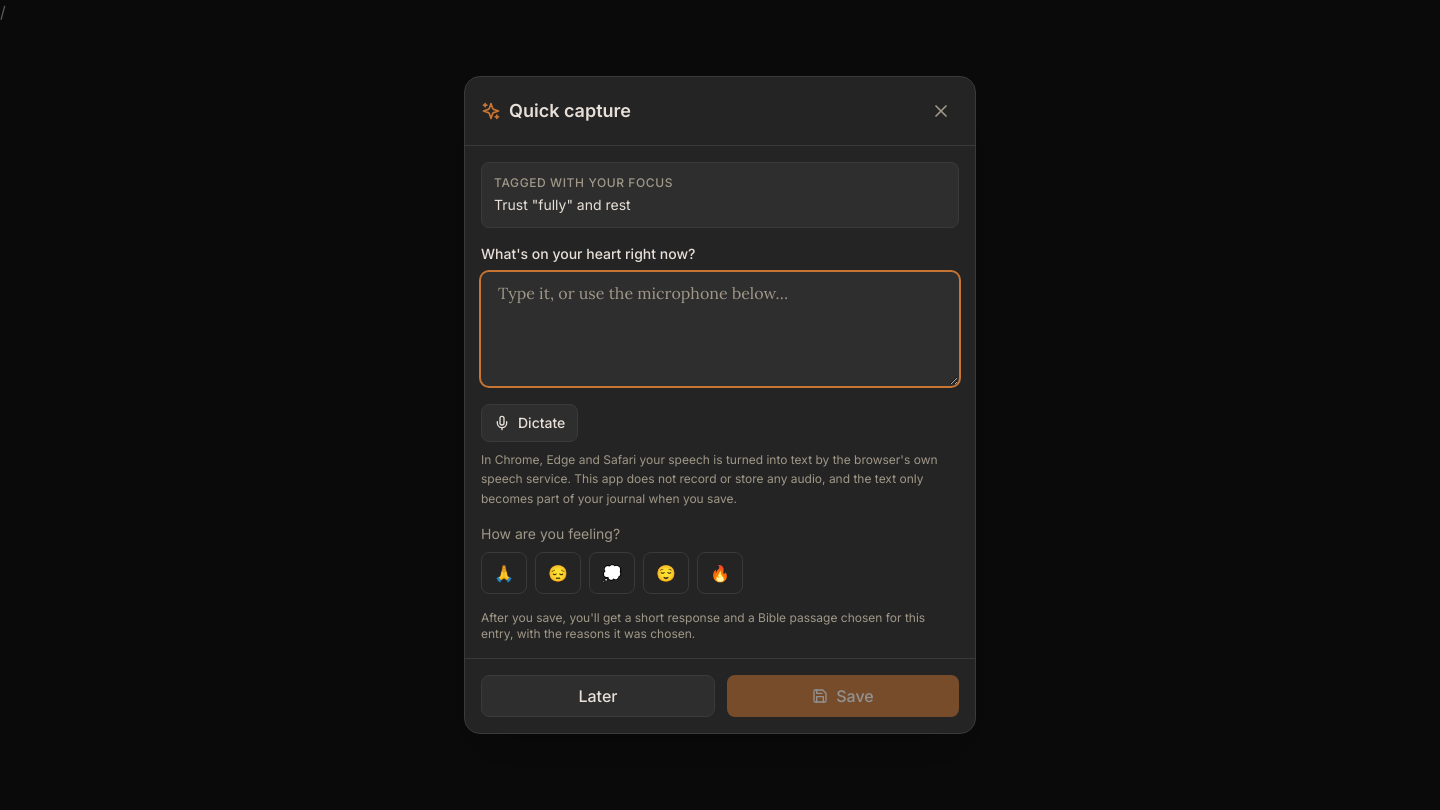
Scenario: QuickCaptureModal › stores metadata as valid JSON and opens the entry for feedback on success
Type "Grateful today" into the text box labelled "What's on your heart right now?" at x=720, y=329, box x1=481 y1=272 x2=959 y2=386
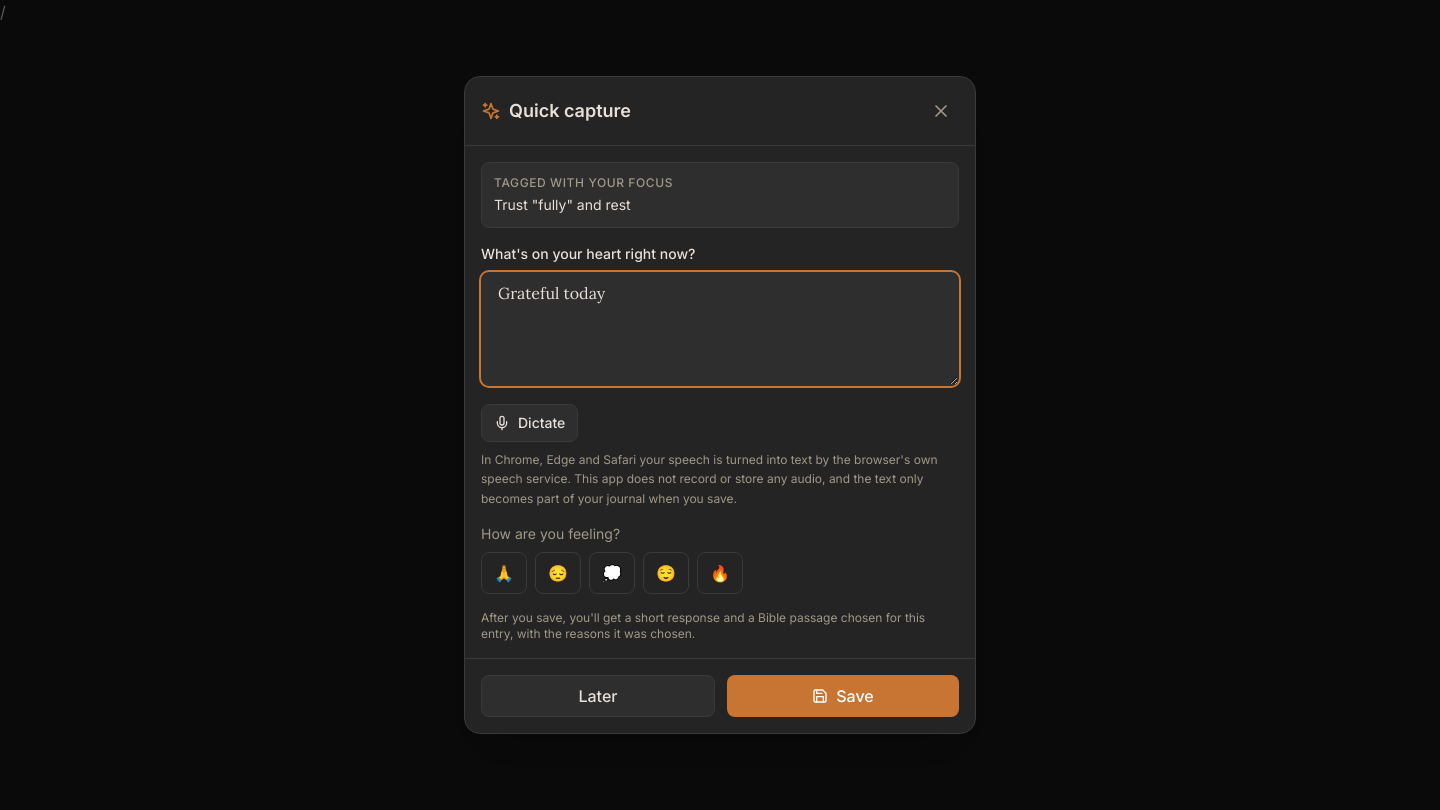
Click the button named "Peaceful" at x=666, y=573, box x1=643 y1=552 x2=689 y2=594
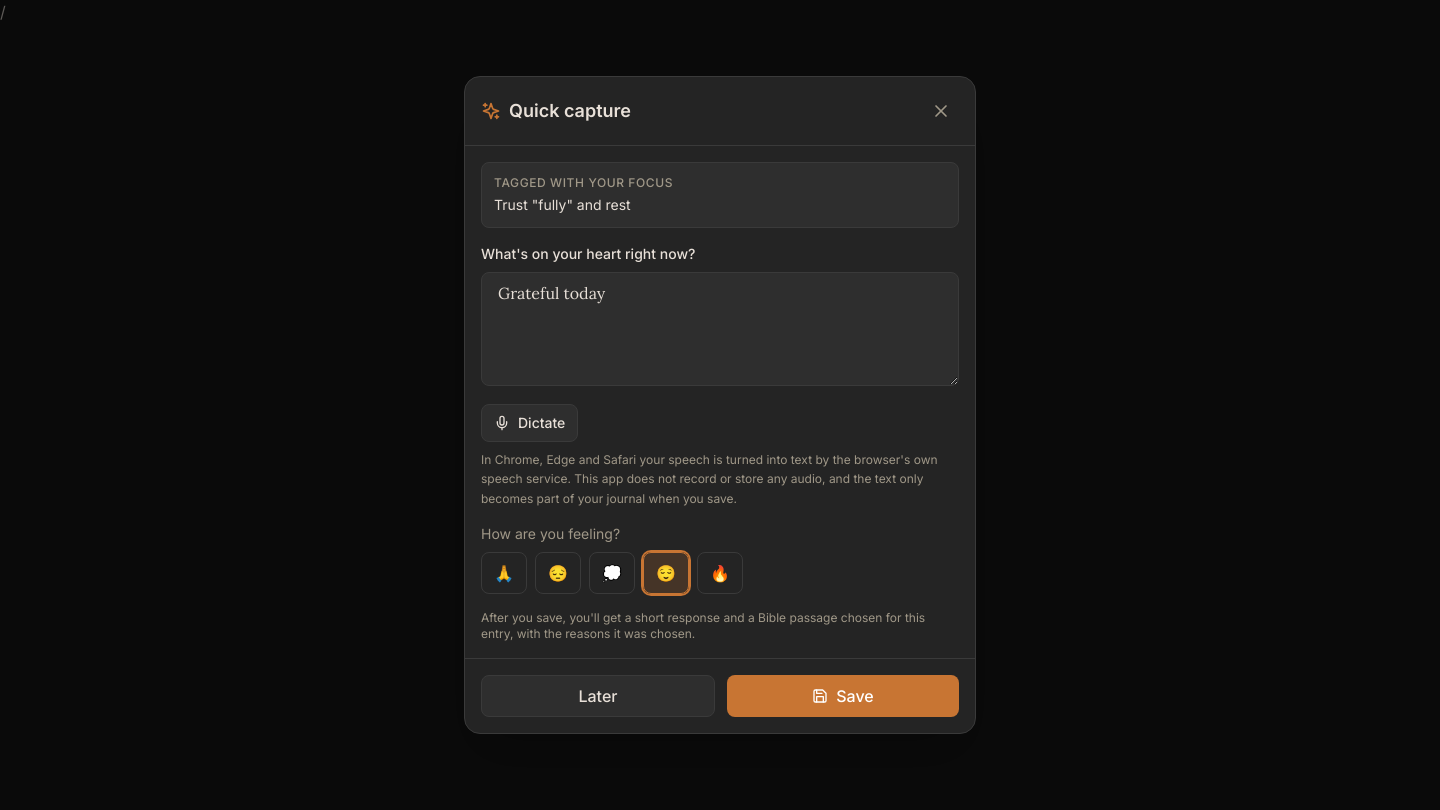
Click the button "Save" at x=843, y=696, box x1=727 y1=675 x2=959 y2=717
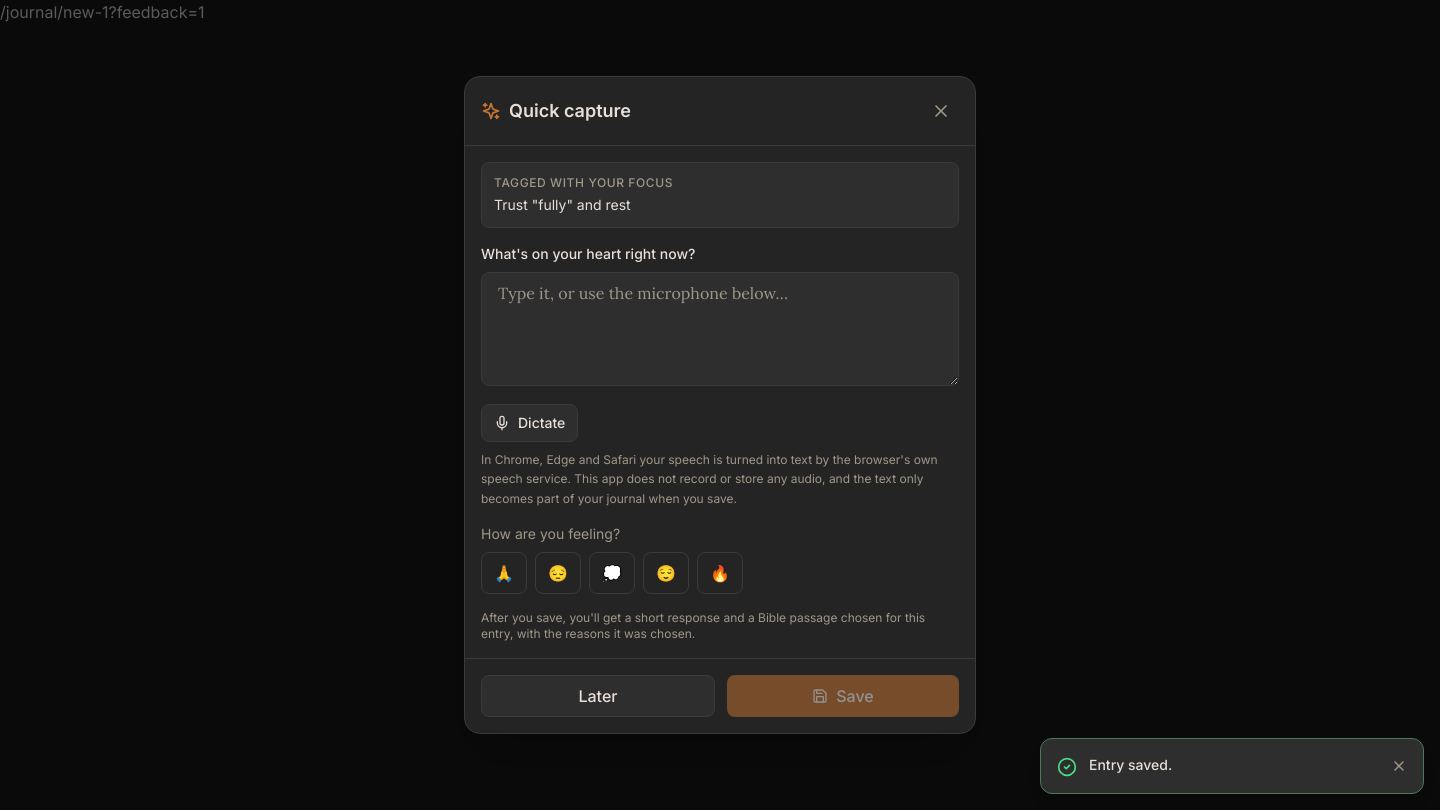
Expected: the text with test id "location" reads "/journal/new-1?feedback=1", x1=0 y1=2 x2=204 y2=22
